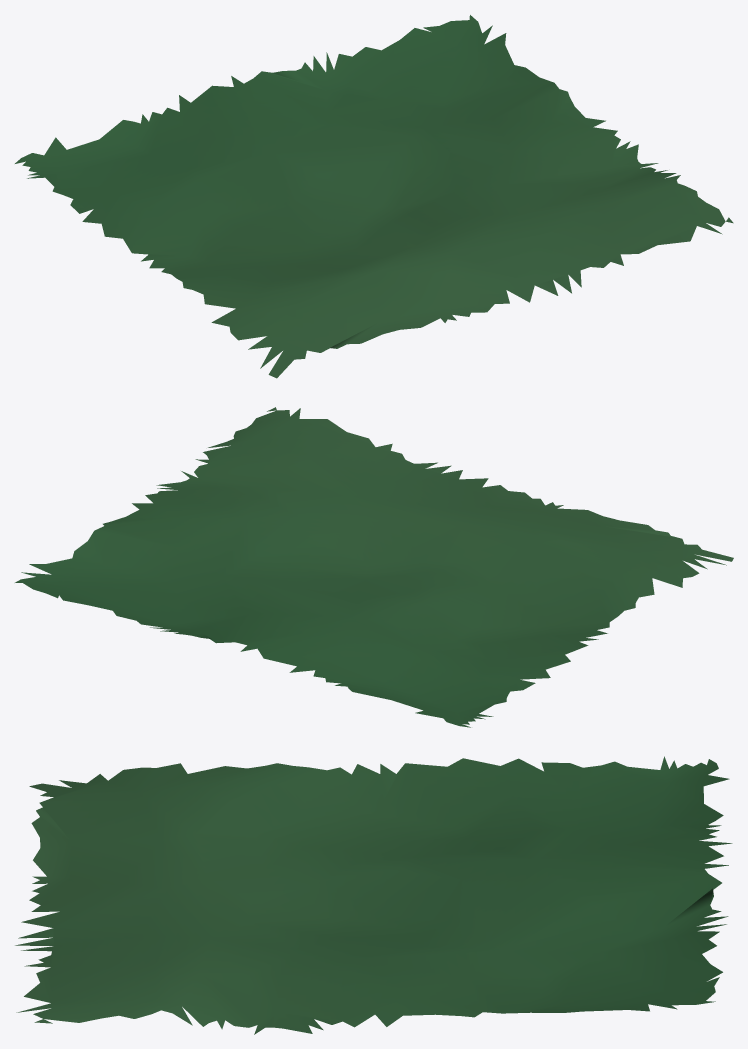
Rendered from payo_land_x0_y7_lod2.glb.
3 views of the same model, one above another, from view 1: azimuth 30°, elevation 25°; view 2: azimuth 150°, elevation 25°; view 3: azimuth 270°, elevation 25° (orthographic). The views are drawn at different scales.
Parts seen in each view (by area): view 1: payo_land_x0_y7; view 2: payo_land_x0_y7; view 3: payo_land_x0_y7.
Part boxes in pixels (bbox=[...]): payo_land_x0_y7: bbox=[15, 15, 733, 378]; payo_land_x0_y7: bbox=[15, 407, 733, 727]; payo_land_x0_y7: bbox=[15, 756, 732, 1034].
Size of the model in its own units: 271 by 30.95 by 273.
